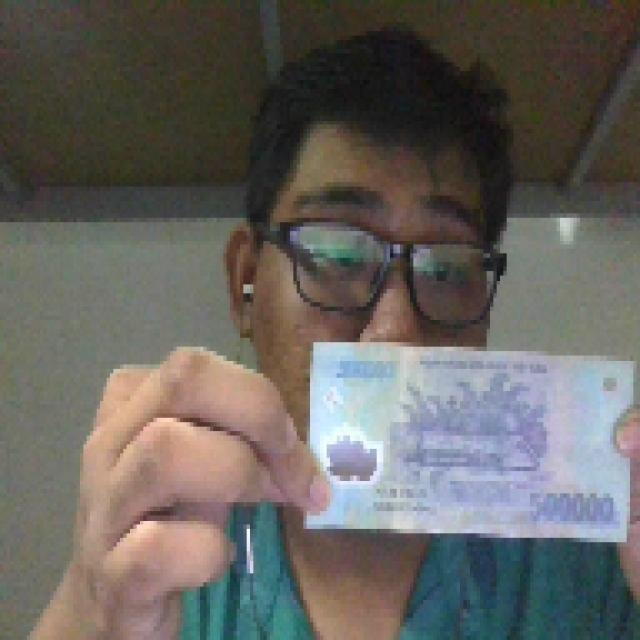500 000 VND: (302, 333, 638, 547)
